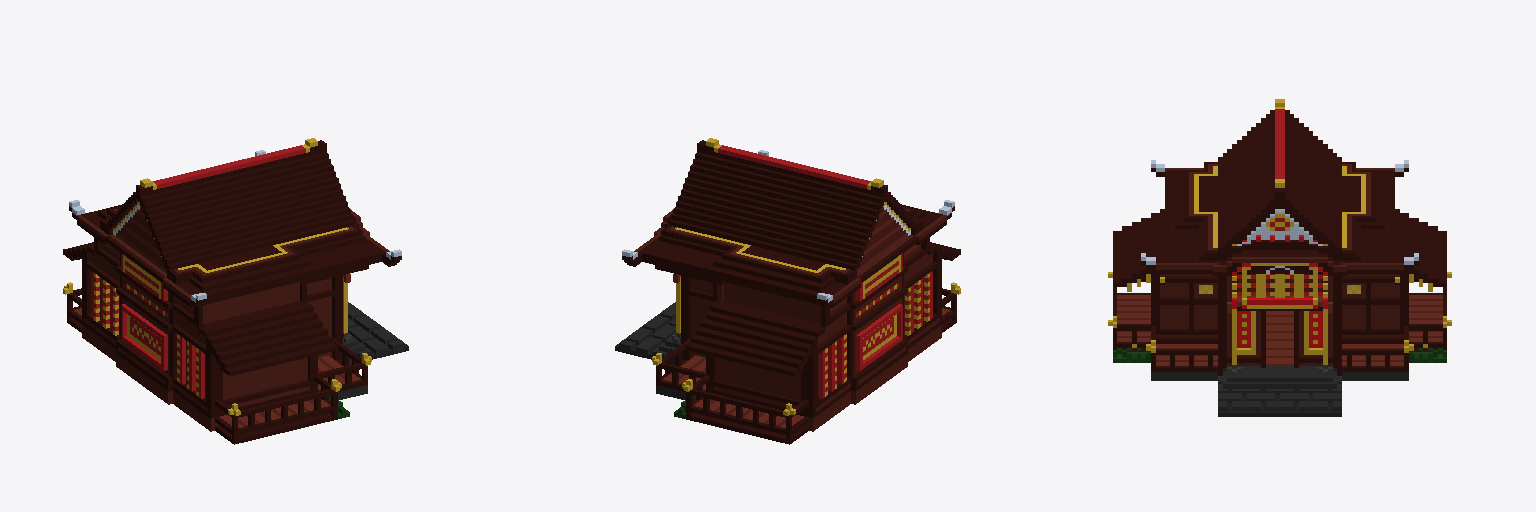
The picture shows the model from 3 angles: view 1: azimuth 30°, elevation 25°; view 2: azimuth 150°, elevation 25°; view 3: azimuth 270°, elevation 25°; orthographic projection.
Parts seen in each view (by area): view 1: object 1; view 2: object 1; view 3: object 1.
Part boxes in pixels (left/top/right/bottom): object 1: left=63, top=138, right=408, bottom=444; object 1: left=615, top=138, right=960, bottom=444; object 1: left=1108, top=99, right=1451, bottom=416.
Bounding box in the file's own units: 5.9 × 4.7 × 7.2.
Materials: 1 (1 with a texture image).